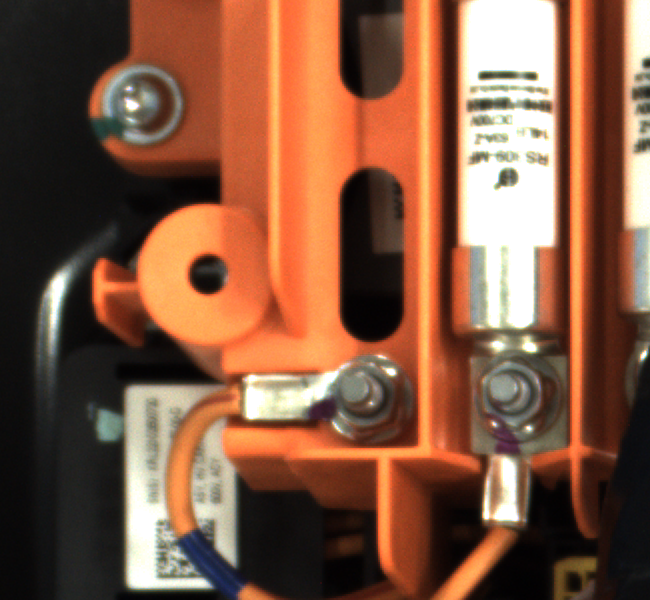screw_m: (101, 58, 209, 152)
screw_s: (460, 357, 590, 463), (311, 351, 424, 448)
